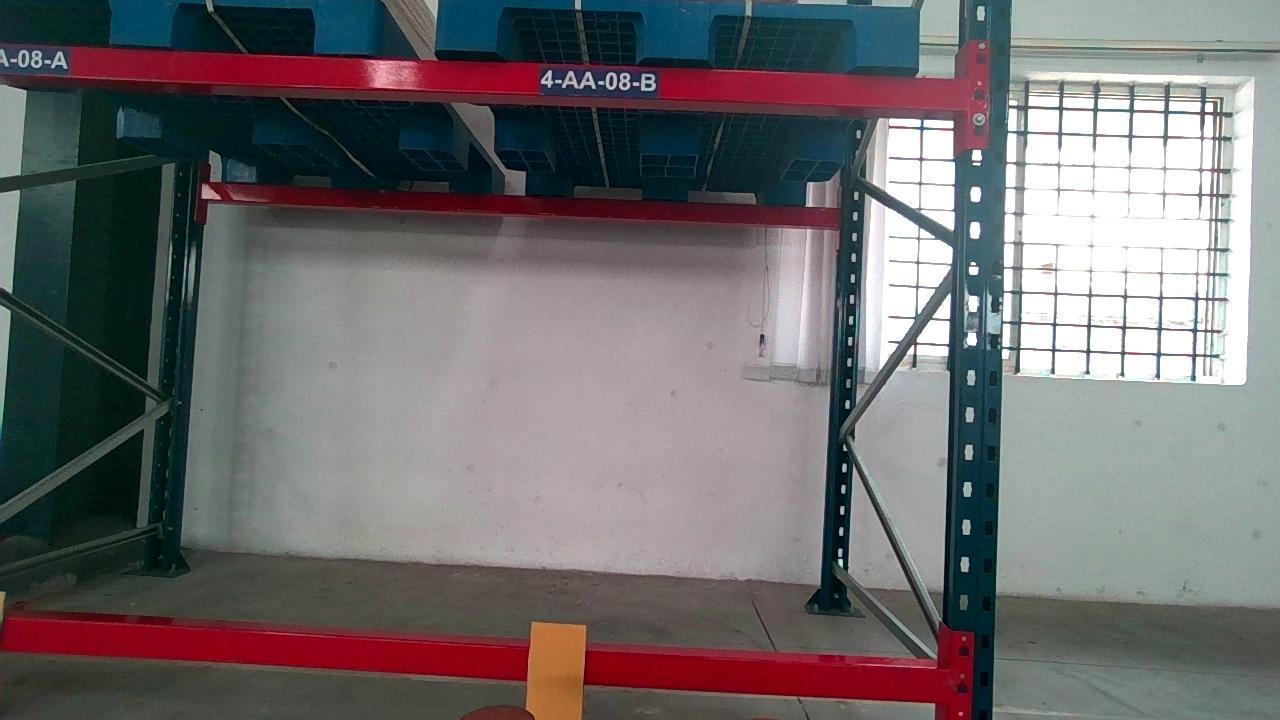h_rack: (3, 617, 944, 703), (0, 46, 972, 113)
orange_strip: (527, 623, 586, 720)
small_pallet: (452, 0, 924, 69), (7, 0, 375, 48)
